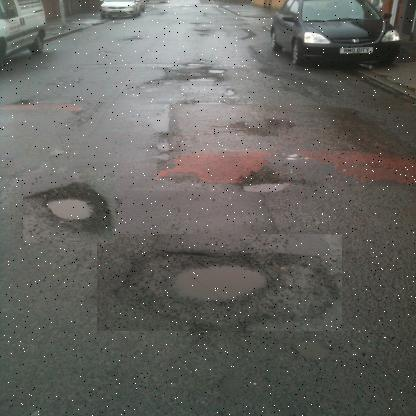pothole_water: (95, 234, 341, 332), (22, 173, 115, 244), (229, 163, 317, 205)
